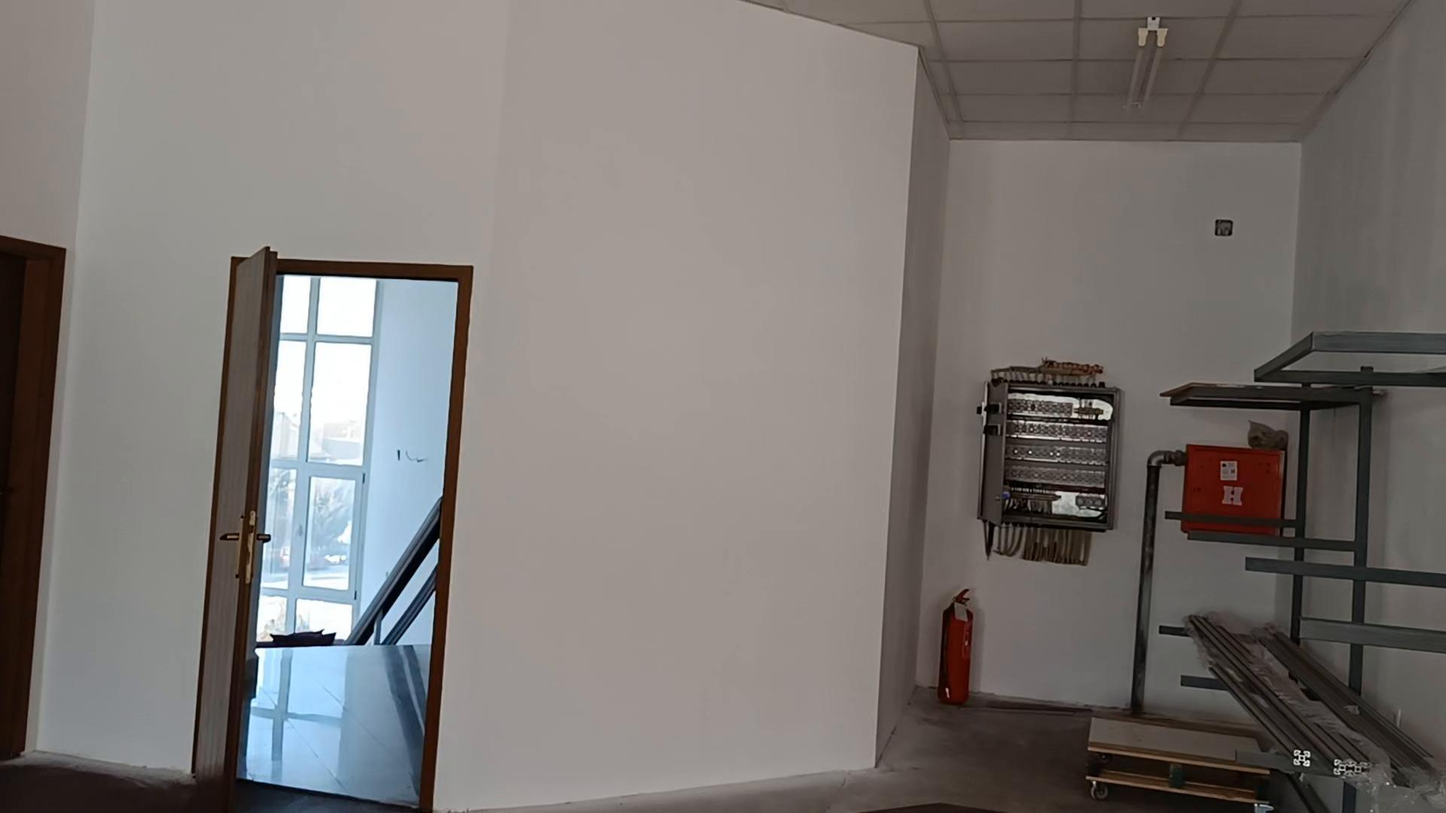ceiling: (747, 0, 1410, 142)
floor: (496, 690, 1248, 812)
wall: (1, 3, 1443, 812), (1369, 388, 1445, 571)
